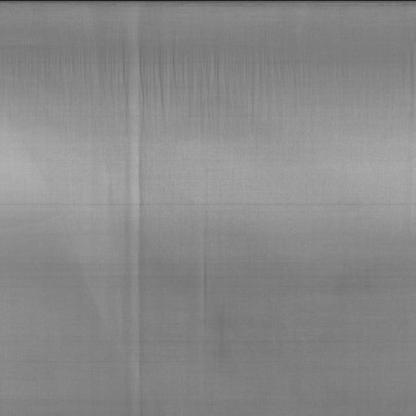waist_folding: (41, 40, 269, 330)
